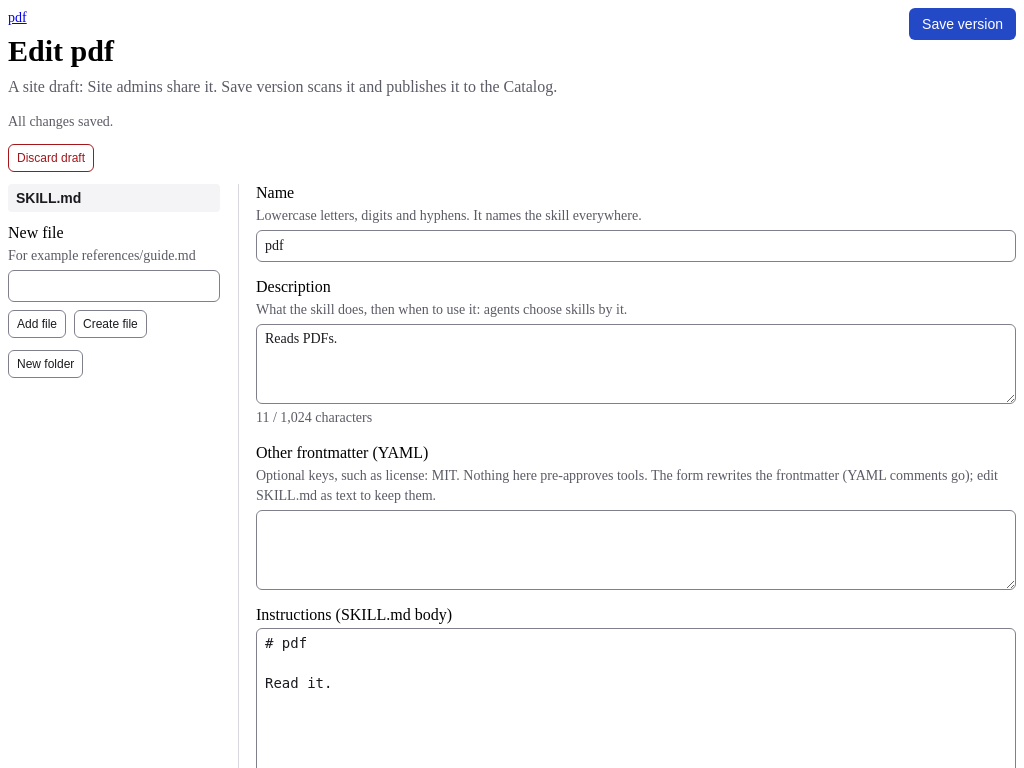
Test: site draft editor (ac-2, ac-3) › loads the persisted draft and publishes the confirmed version
The image size is (1024, 768).
Expected: the heading "Edit pdf" is shown, [8, 34, 114, 67]
Click the button "Save version": click(963, 24) [909, 8, 1016, 40]
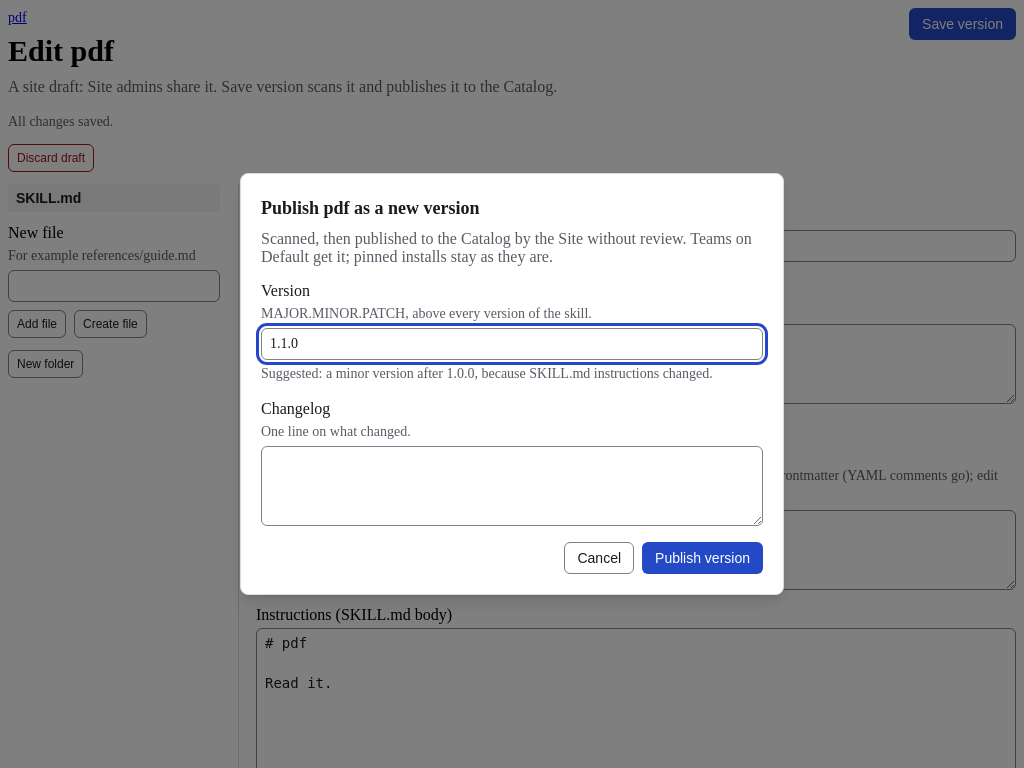
Expected: the field labelled "Version" holds "1.1.0", [261, 328, 763, 360]
In the text box labelled "Changelog": (512, 486) [261, 446, 763, 526], type "Clearer steps."
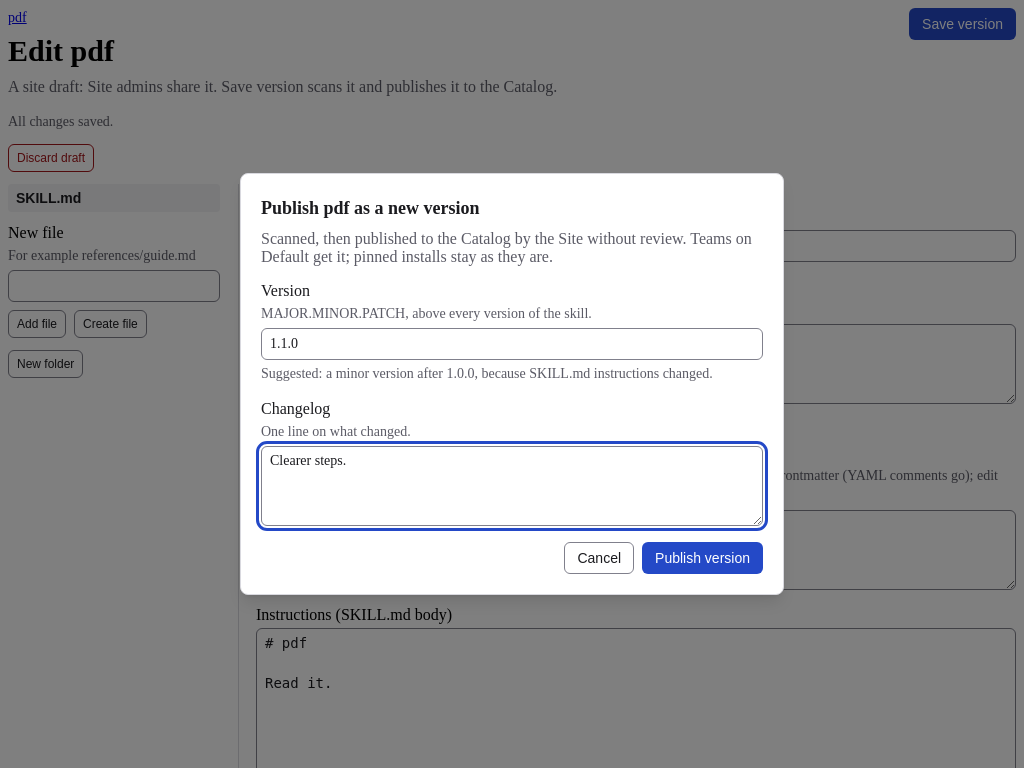
Click the button "Publish version": click(703, 558) [642, 542, 763, 574]
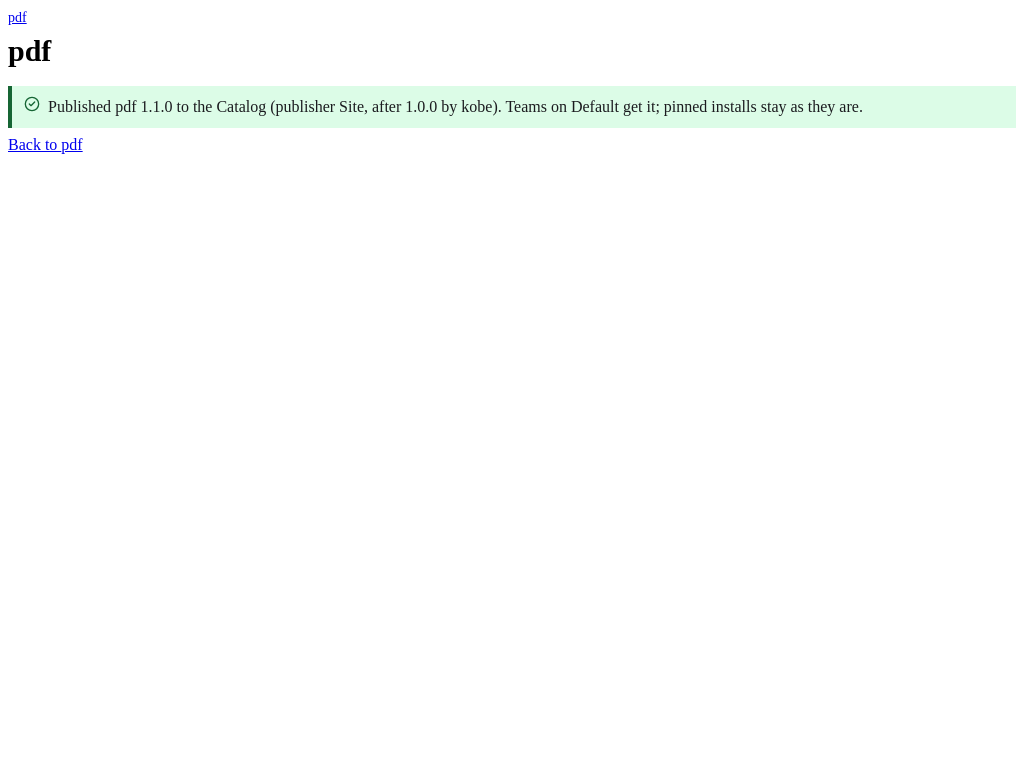
Expected: the text "Published pdf 1.1.0 to the Catalog" is shown, [48, 98, 1004, 116]
